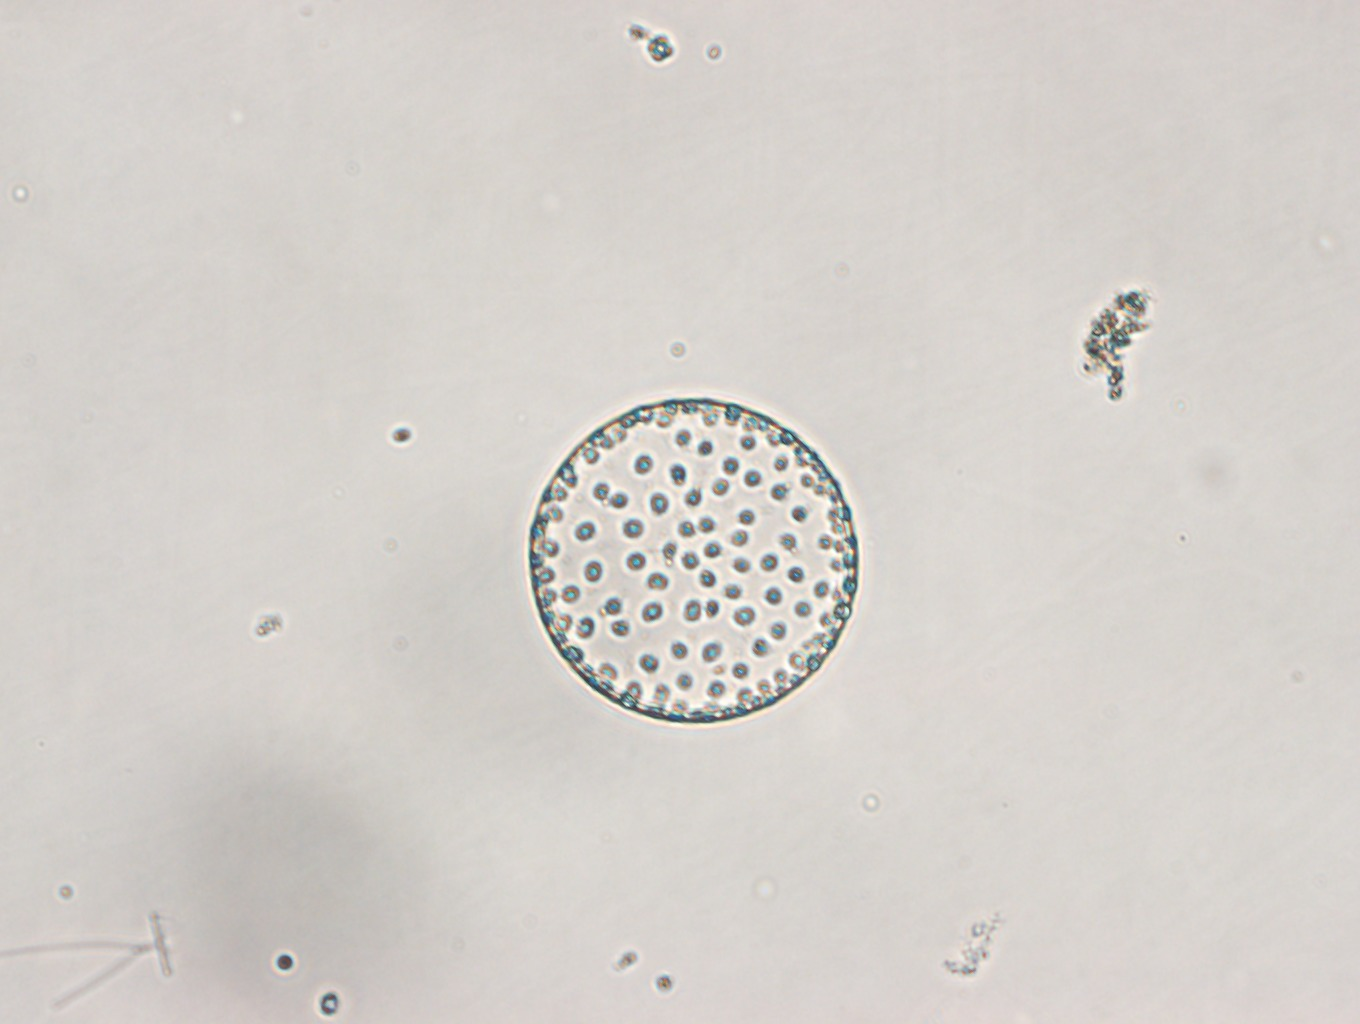coscinodiscus: (526, 392, 865, 726)
